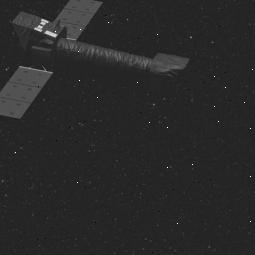xmm_newton: (0, 0, 173, 139)
